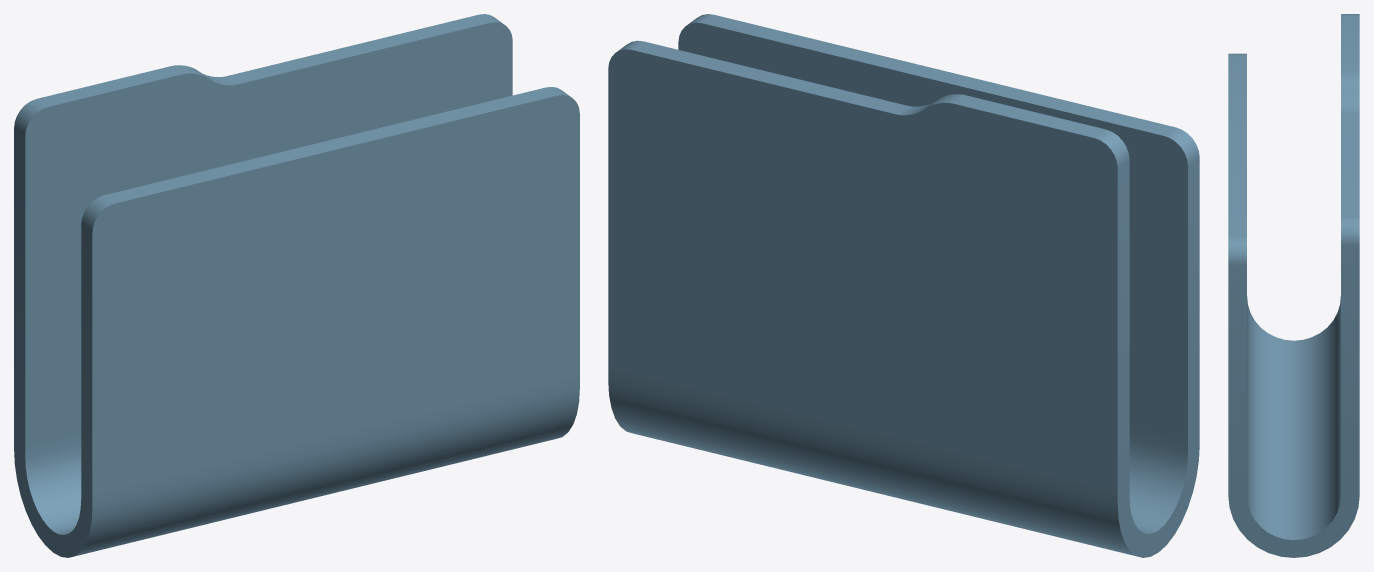
File: Folder.fbx
3 views of the same model, side by side, from view 1: azimuth 30°, elevation 25°; view 2: azimuth 150°, elevation 25°; view 3: azimuth 270°, elevation 25° (orthographic). The views are drawn at different scales.
Visible parts, largest first — view 1: Folder; view 2: Folder; view 3: Folder.
Boxes of the visible parts, x1,y1,x2,y2 form: Folder: (14, 14, 579, 557); Folder: (608, 14, 1199, 557); Folder: (1228, 14, 1359, 557).
Bounding box in the file's own units: 65.96 × 54.26 × 18.37.
